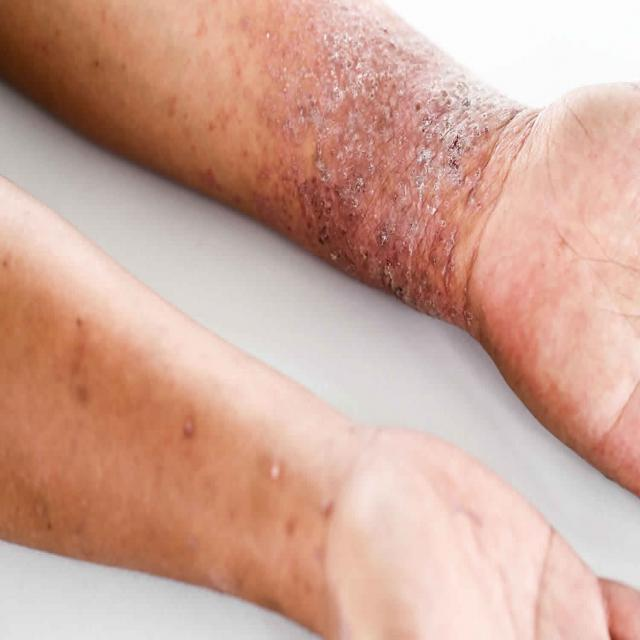eczema: (268, 5, 508, 258)
